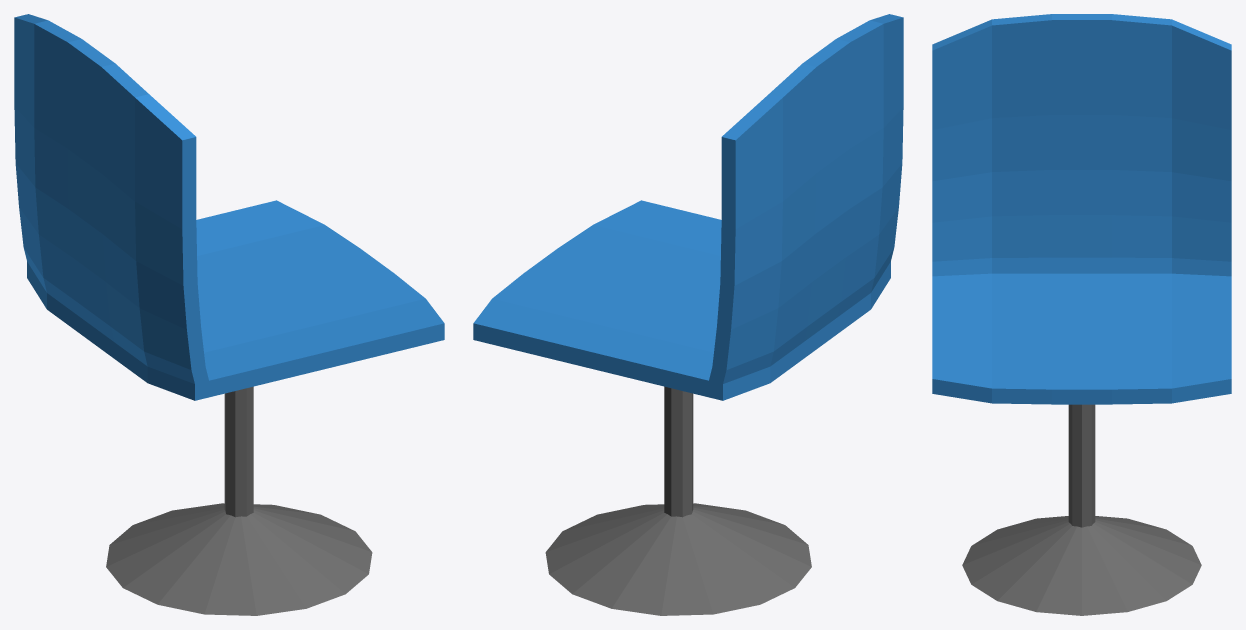
The model's file is Chairblue.fbx.
3 views of the same model, side by side, from view 1: azimuth 30°, elevation 25°; view 2: azimuth 150°, elevation 25°; view 3: azimuth 270°, elevation 25° (orthographic). The views are drawn at different scales.
Visible parts, largest first — view 1: Cube; view 2: Cube; view 3: Cube.
Part boxes in pixels (bbox=[...]): Cube: bbox=[14, 14, 444, 615]; Cube: bbox=[473, 14, 903, 615]; Cube: bbox=[932, 14, 1231, 615].
Bounding box in the file's own units: 202 × 357 × 200.
